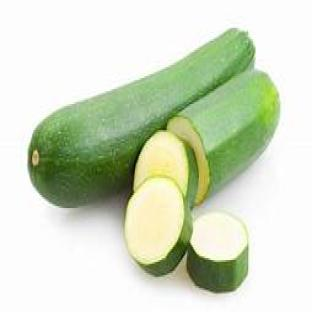Zucchini: (29, 30, 254, 206), (168, 71, 280, 202), (126, 177, 191, 276), (133, 130, 197, 207), (187, 212, 248, 291)
